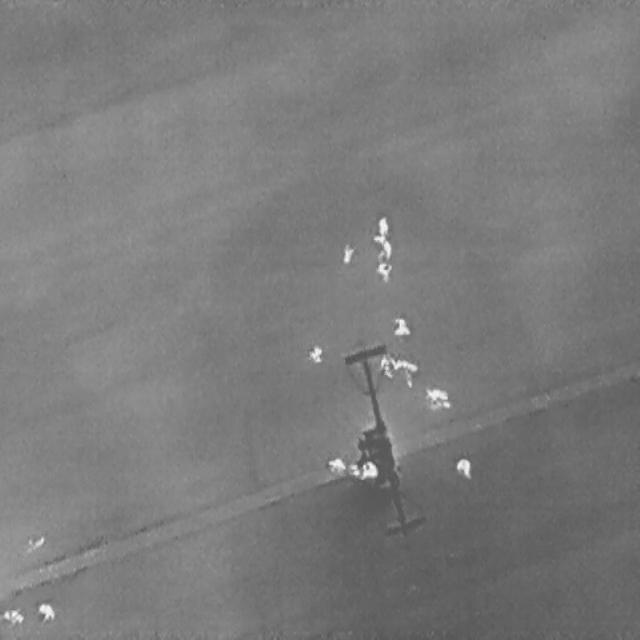Person: (393, 356, 418, 386), (422, 385, 450, 410), (372, 234, 392, 258), (379, 351, 394, 380), (0, 606, 22, 624), (340, 241, 356, 265), (392, 315, 411, 335), (375, 261, 393, 281), (454, 456, 472, 476), (327, 455, 345, 474), (38, 602, 55, 622), (361, 461, 378, 479), (309, 342, 321, 362), (377, 215, 387, 235)
